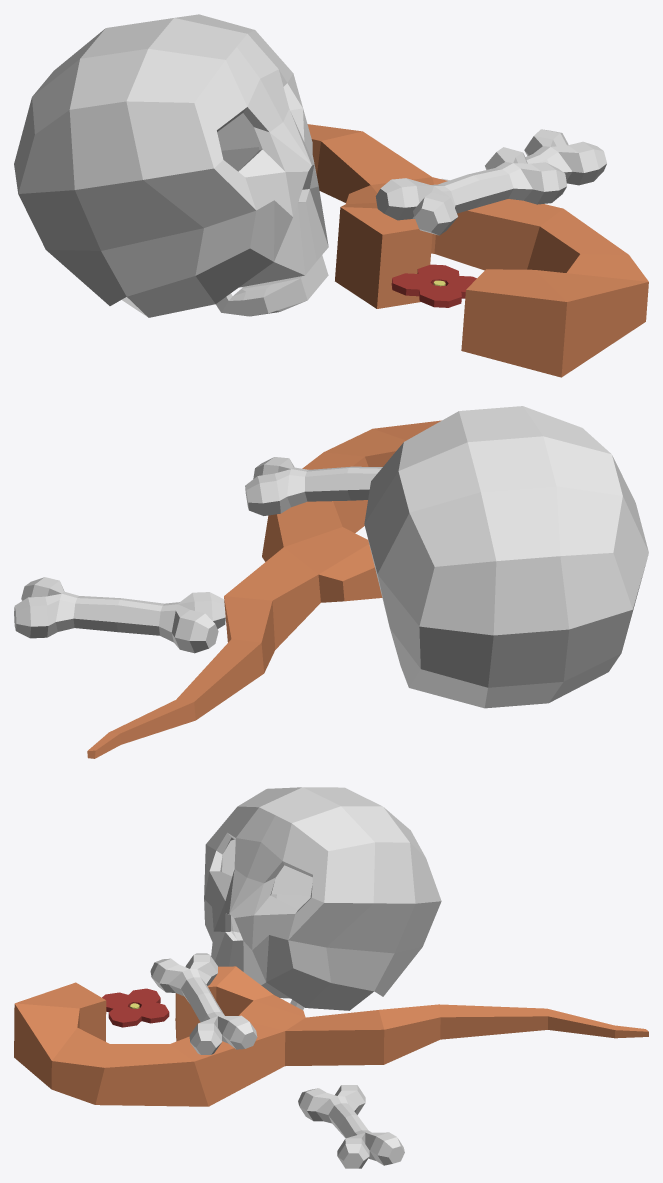
The model's file is Skeleton 4.fbx.
The picture shows the model from 3 angles, top to bottom: view 1: azimuth 30°, elevation 25°; view 2: azimuth 150°, elevation 25°; view 3: azimuth 270°, elevation 25°; orthographic projection. The views are drawn at different scales.
Parts seen in each view (by area): view 1: Skeleton 4; view 2: Skeleton 4; view 3: Skeleton 4.
Boxes of the visible parts, left/top/right/bottom form: Skeleton 4: left=14, top=14, right=648, bottom=377; Skeleton 4: left=14, top=406, right=648, bottom=758; Skeleton 4: left=14, top=787, right=648, bottom=1168.
Bounding box in the file's own units: 23.52 × 10.16 × 28.45.
